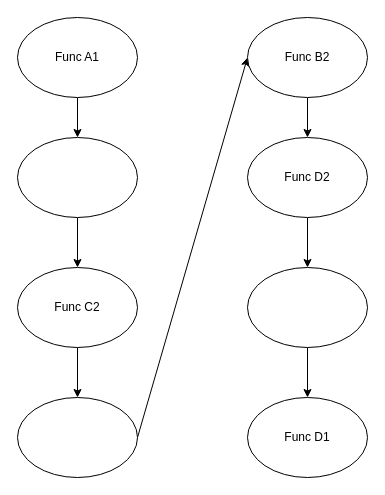
Some shapes in this 385 by 495 pixel diagram are drawn without their labels. Each missing label, with the centre of its shape:
Func A2: point (77, 177)
Func B1: point (77, 437)
Func C1: point (307, 307)
